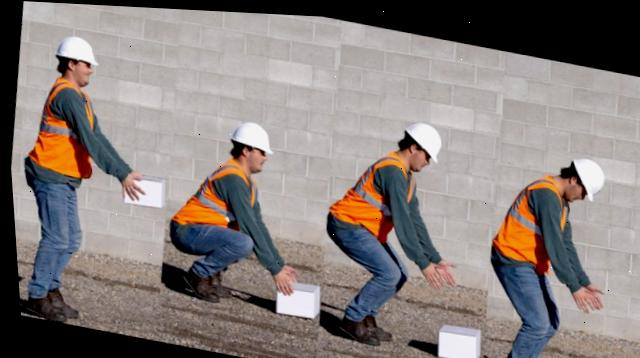helmet: (398, 115, 443, 158), (223, 113, 271, 151), (565, 148, 606, 192), (52, 31, 101, 66)
vest: (321, 136, 421, 230), (162, 148, 255, 236), (486, 166, 568, 261), (23, 81, 94, 173)
